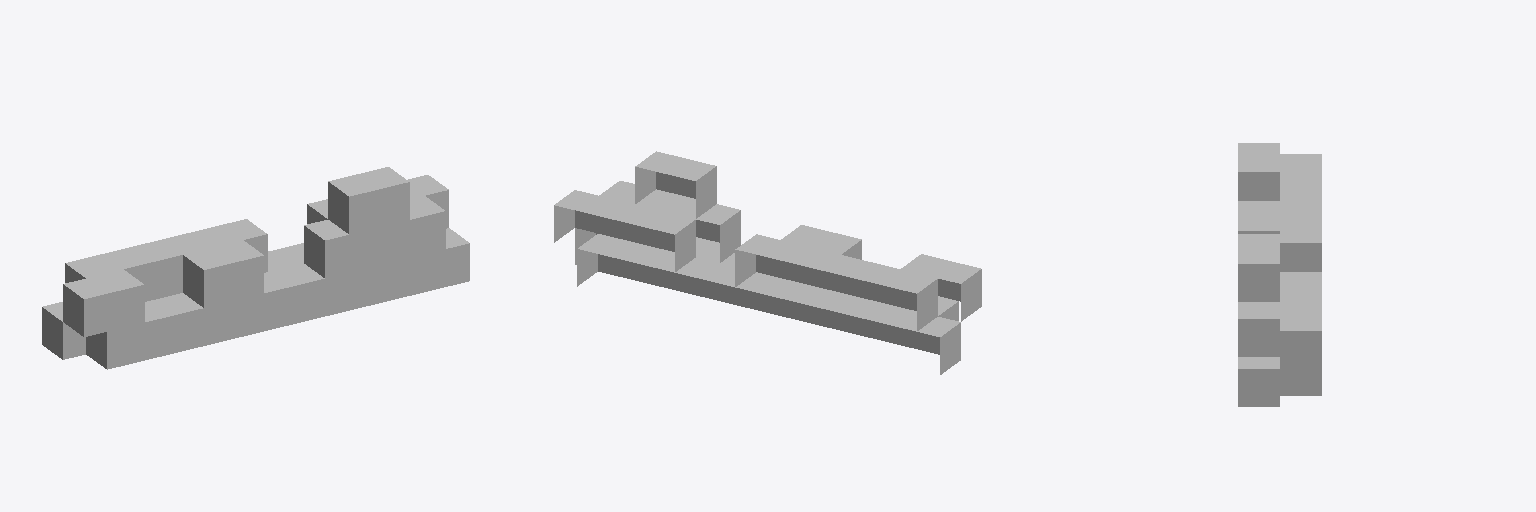
File: Top Slot _ 0 Broken.obj
The picture shows the model from 3 angles: view 1: azimuth 30°, elevation 25°; view 2: azimuth 150°, elevation 25°; view 3: azimuth 270°, elevation 25°; orthographic projection.
Parts seen in each view (by area): view 1: Top_Slot_3_Broken; view 2: Top_Slot_3_Broken; view 3: Top_Slot_3_Broken.
Boxes of the visible parts, x1,y1,x2,y2 form: Top_Slot_3_Broken: [42, 167, 469, 369]; Top_Slot_3_Broken: [554, 151, 981, 374]; Top_Slot_3_Broken: [1238, 143, 1321, 406].
Bounding box in the file's own units: 1.6 × 0.4499 × 0.3.